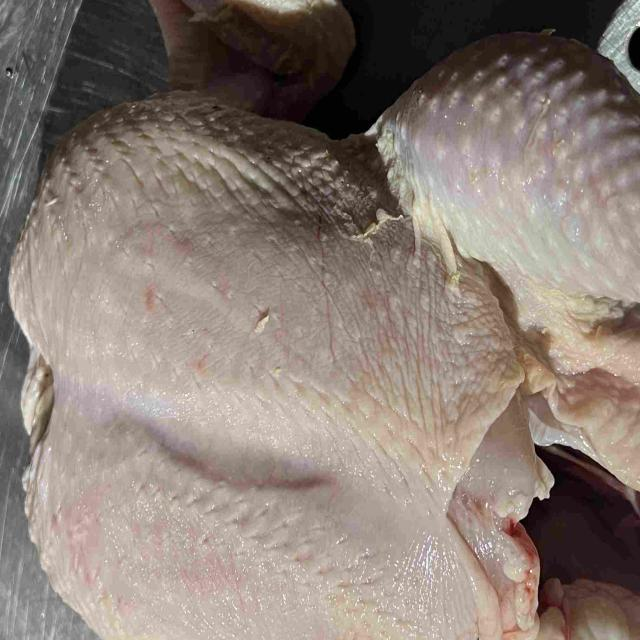breast: (9, 92, 521, 640)
leg: (369, 34, 640, 303)
wing: (148, 0, 356, 122)
